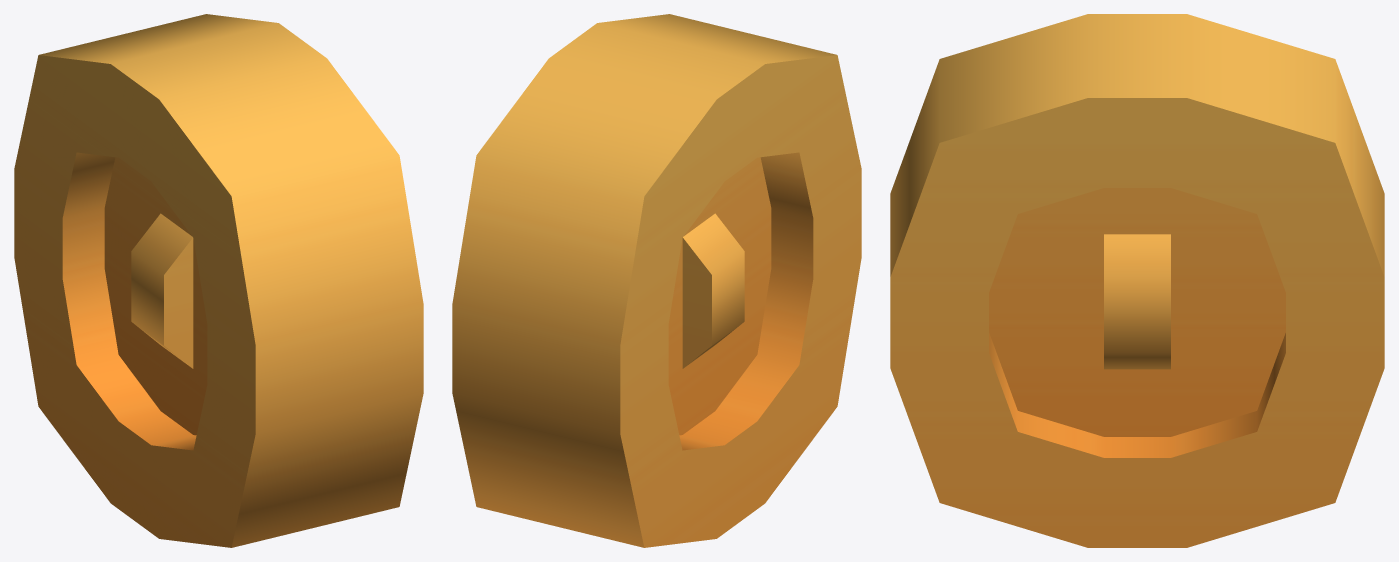
File: coin_0_0_lev4.glb
3 renders of one model, left to right at view 1: azimuth 30°, elevation 25°; view 2: azimuth 150°, elevation 25°; view 3: azimuth 270°, elevation 25°, orthographic. The views are drawn at different scales.
Visible parts, largest first — view 1: coin_0_0_lev4; view 2: coin_0_0_lev4; view 3: coin_0_0_lev4.
Boxes of the visible parts, x1,y1,x2,y2 form: coin_0_0_lev4: (14,14,423,547); coin_0_0_lev4: (452,14,861,547); coin_0_0_lev4: (890,14,1384,547).
Size of the model in its own units: 0.1108 by 0.2771 by 0.276.
Materials: 1 (1 with a texture image).
